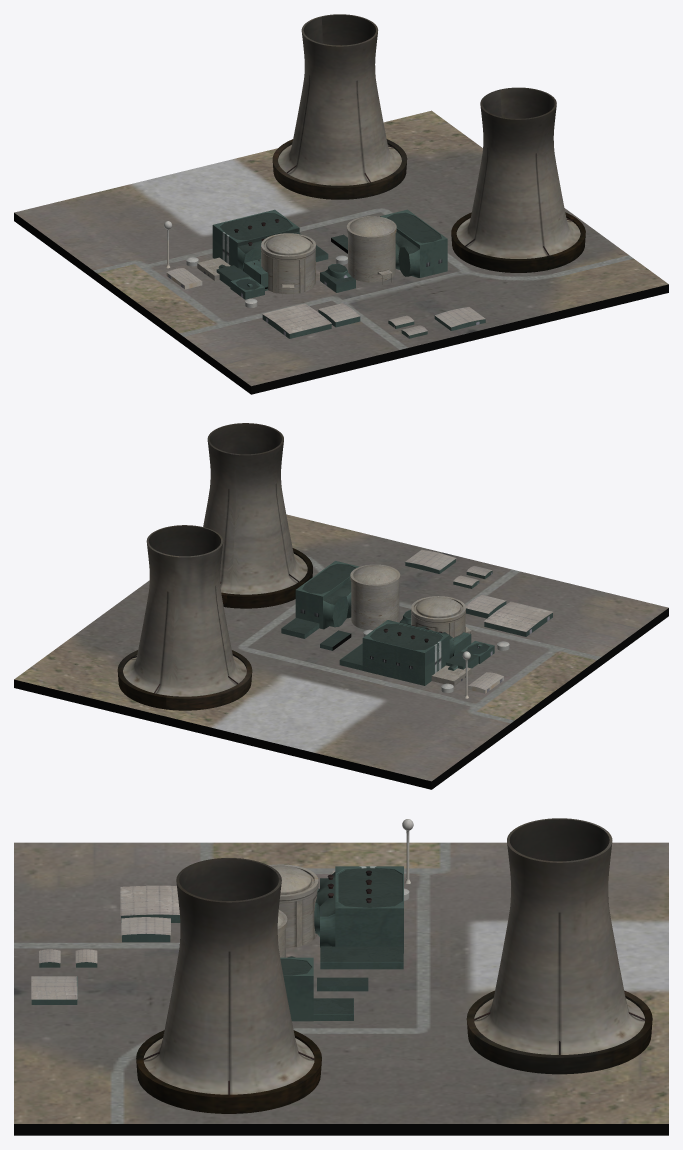
The model's file is nuclear.obj.
3 renders of one model, top to bottom at view 1: azimuth 30°, elevation 25°; view 2: azimuth 150°, elevation 25°; view 3: azimuth 270°, elevation 25°, orthographic. The views are drawn at different scales.
Visible parts, largest first — view 1: 10078_Nuclear_Power_Plant; view 2: 10078_Nuclear_Power_Plant; view 3: 10078_Nuclear_Power_Plant.
Boxes of the visible parts, box(x1,y1,x2,y2) form: 10078_Nuclear_Power_Plant: box(14, 14, 668, 394); 10078_Nuclear_Power_Plant: box(14, 423, 668, 789); 10078_Nuclear_Power_Plant: box(14, 818, 668, 1135).
Bounding box in the file's own units: 1.8 × 0.6158 × 1.77.
